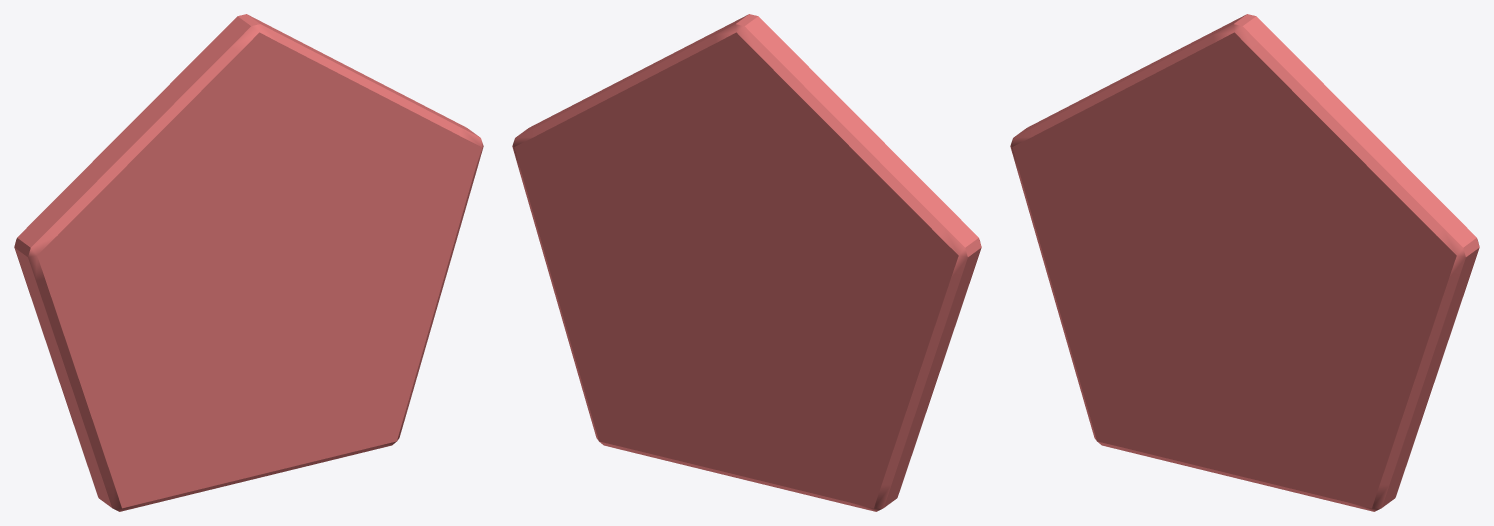
File: p_PentagonShape.fbx
3 renders of one model, left to right at view 1: azimuth 30°, elevation 25°; view 2: azimuth 150°, elevation 25°; view 3: azimuth 330°, elevation 25°, orthographic.
Parts seen in each view (by area): view 1: p_PentagonShape; view 2: p_PentagonShape; view 3: p_PentagonShape.
Part boxes in pixels (x1,y1,x2,y2): p_PentagonShape: (14, 14, 483, 511); p_PentagonShape: (512, 14, 981, 511); p_PentagonShape: (1010, 14, 1479, 511).
Size of the model in its own units: 1.25 by 1.19 by 0.1.
